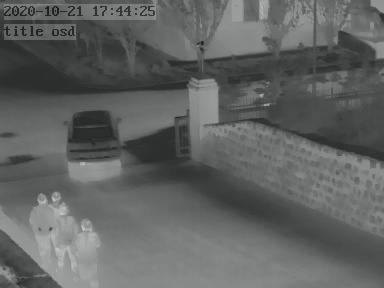person: (34, 190, 59, 264), (75, 214, 98, 285), (55, 203, 79, 270)
vehicle: (64, 109, 127, 179)
